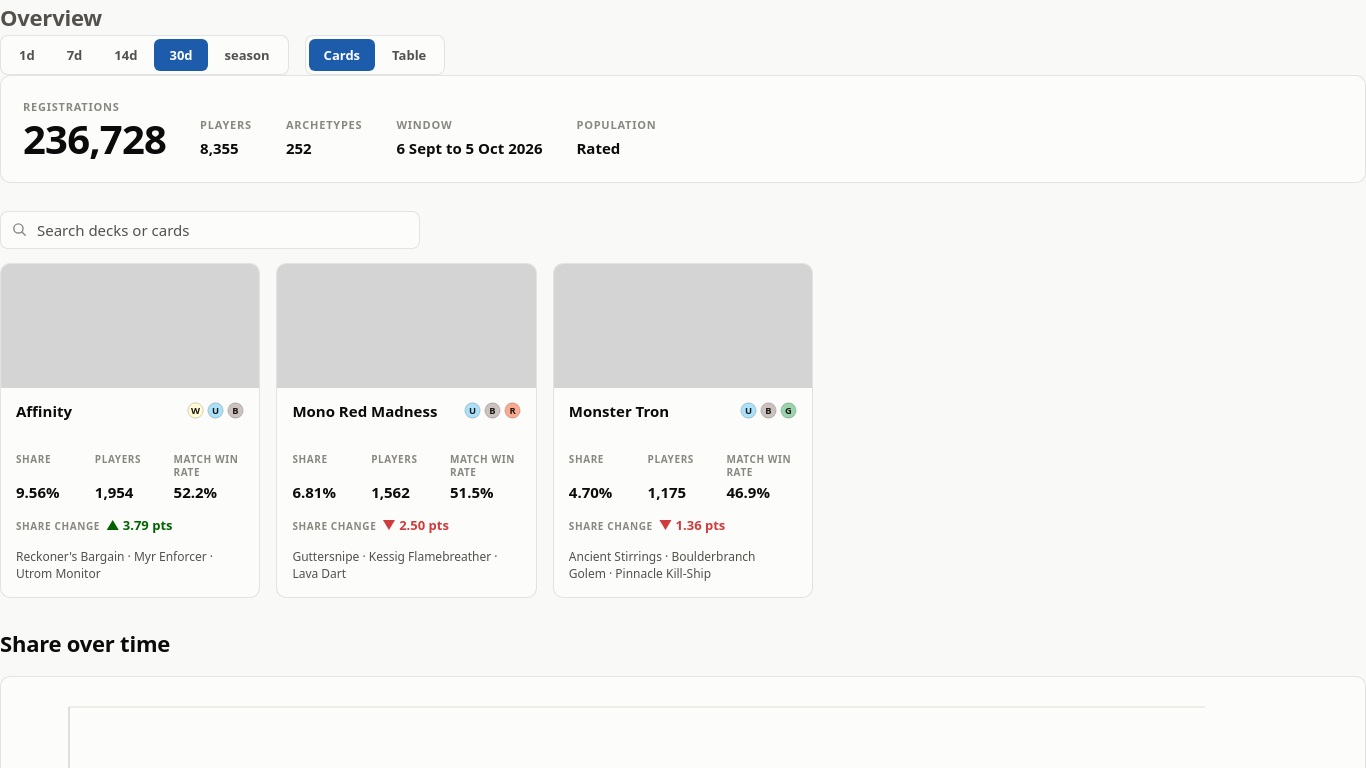
Test: OverviewPage search › keeps the pause running when the view changes during it
The image size is (1366, 768).
Expected: the element named "Decks by meta share" is shown, [0,263,813,598]
Type "altar" into the search field labelled "Search decks or cards". click: (210, 230)
box: [0,211,420,249]
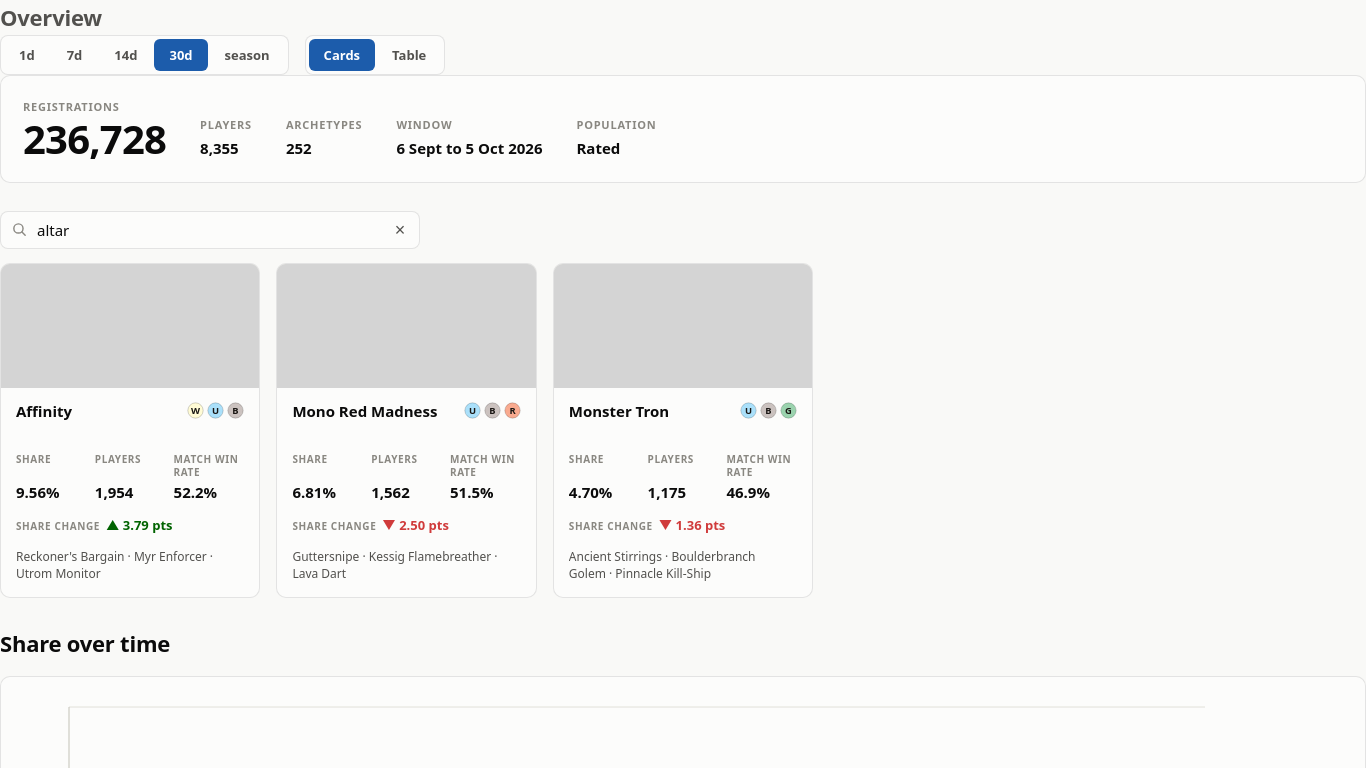
Click the button "Table". click: (409, 55)
box: [377,39,441,71]
(page scrolled)
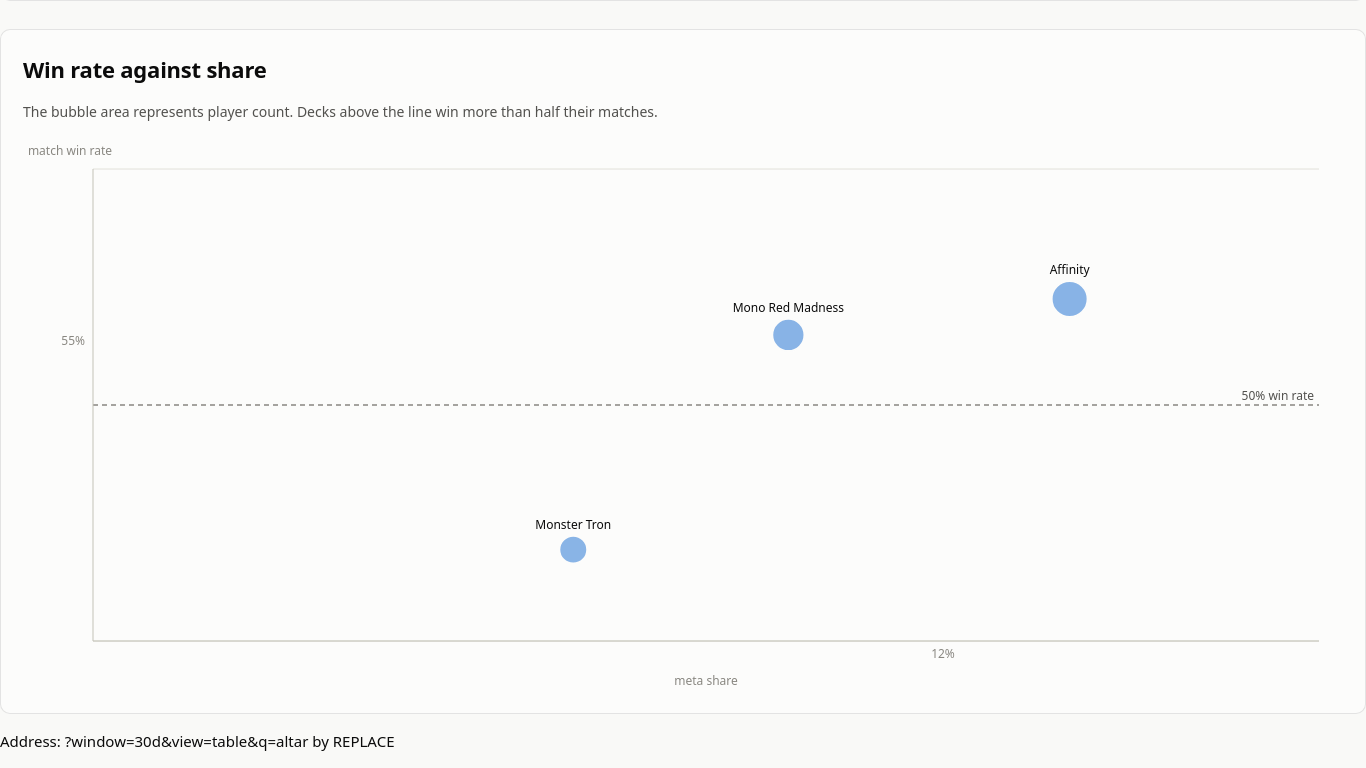
Now the text "Address: ?window=30d&view=table&q=altar by REPLACE" is shown, box [0,731,394,751]
